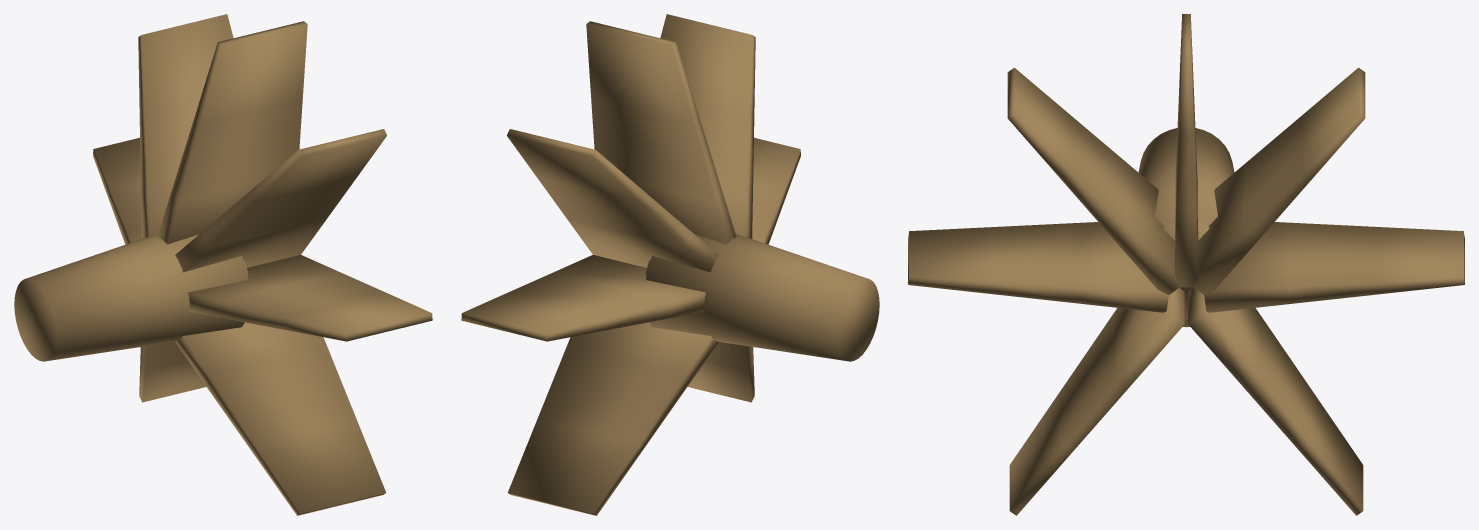
File: CN_SSN_Type091_PROPULSOR_01.fbx
The picture shows the model from 3 angles, left to right: view 1: azimuth 30°, elevation 25°; view 2: azimuth 150°, elevation 25°; view 3: azimuth 270°, elevation 25°; orthographic projection. The views are drawn at different scales.
Visible parts, largest first — view 1: CN_SSN_Type091_PROPULSOR_01; view 2: CN_SSN_Type091_PROPULSOR_01; view 3: CN_SSN_Type091_PROPULSOR_01.
Part boxes in pixels (bbox=[...]): CN_SSN_Type091_PROPULSOR_01: bbox=[14, 14, 432, 515]; CN_SSN_Type091_PROPULSOR_01: bbox=[461, 14, 879, 515]; CN_SSN_Type091_PROPULSOR_01: bbox=[908, 14, 1464, 515].
Size of the model in its own units: 2.2 by 3.58 by 3.23.
